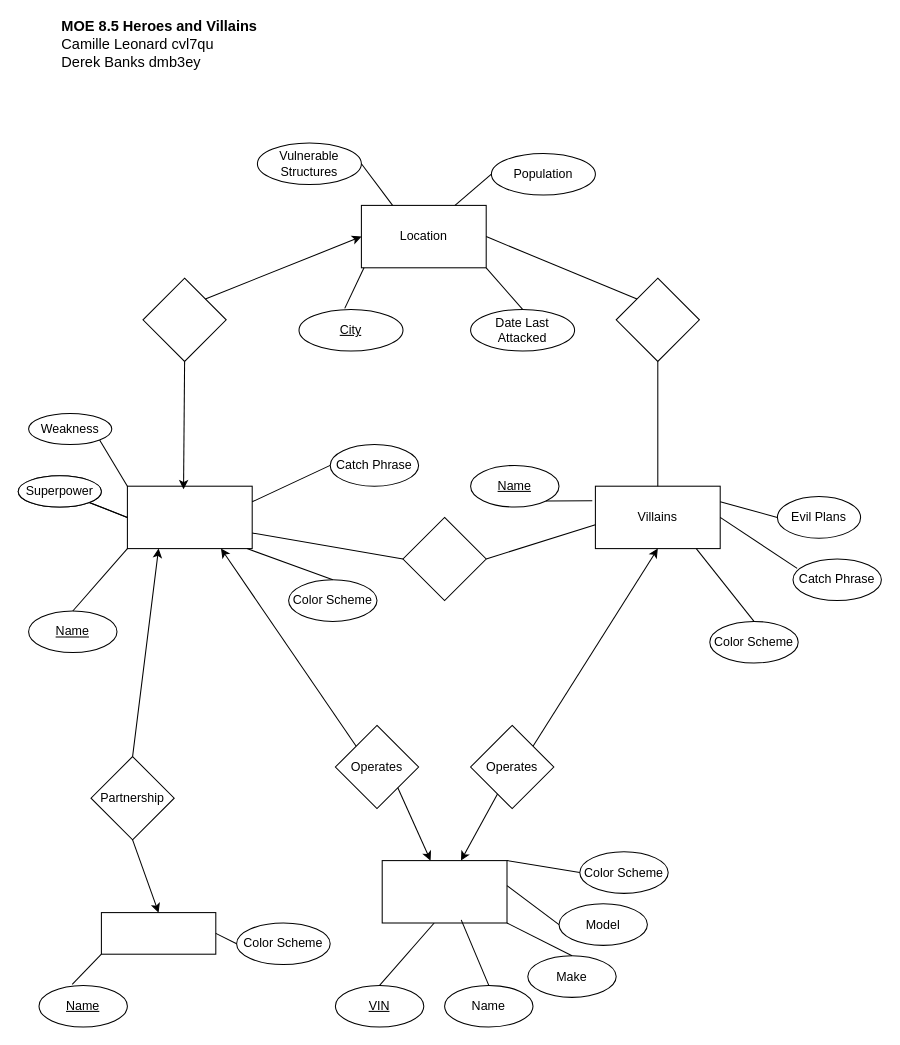
The diagram is 900 pixels wide and 1045 high, and some of its shapes have lost their labels. Each missing label, with the box of its shape:
Attacks: (615, 277, 699, 361)
Defends: (142, 277, 226, 361)
Enemies: (402, 516, 486, 601)
Heros: (126, 485, 252, 549)
Sidekick: (100, 912, 216, 954)
Vehicle: (381, 860, 507, 923)
